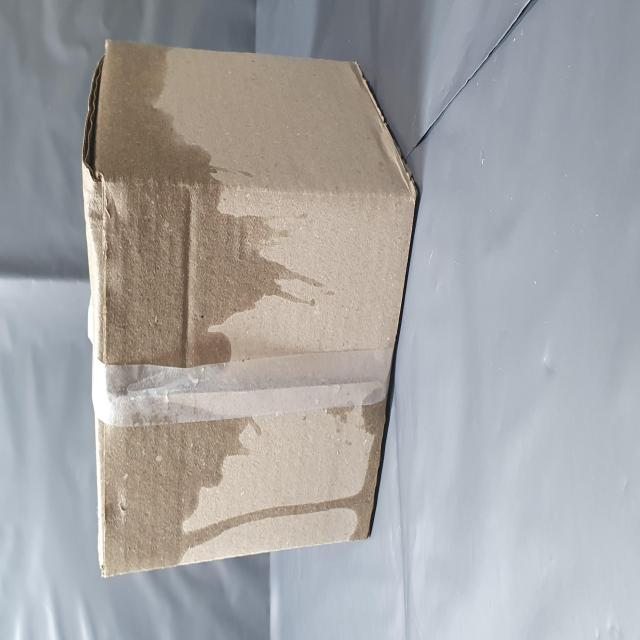wet: (158, 181, 338, 466), (37, 186, 129, 640)
